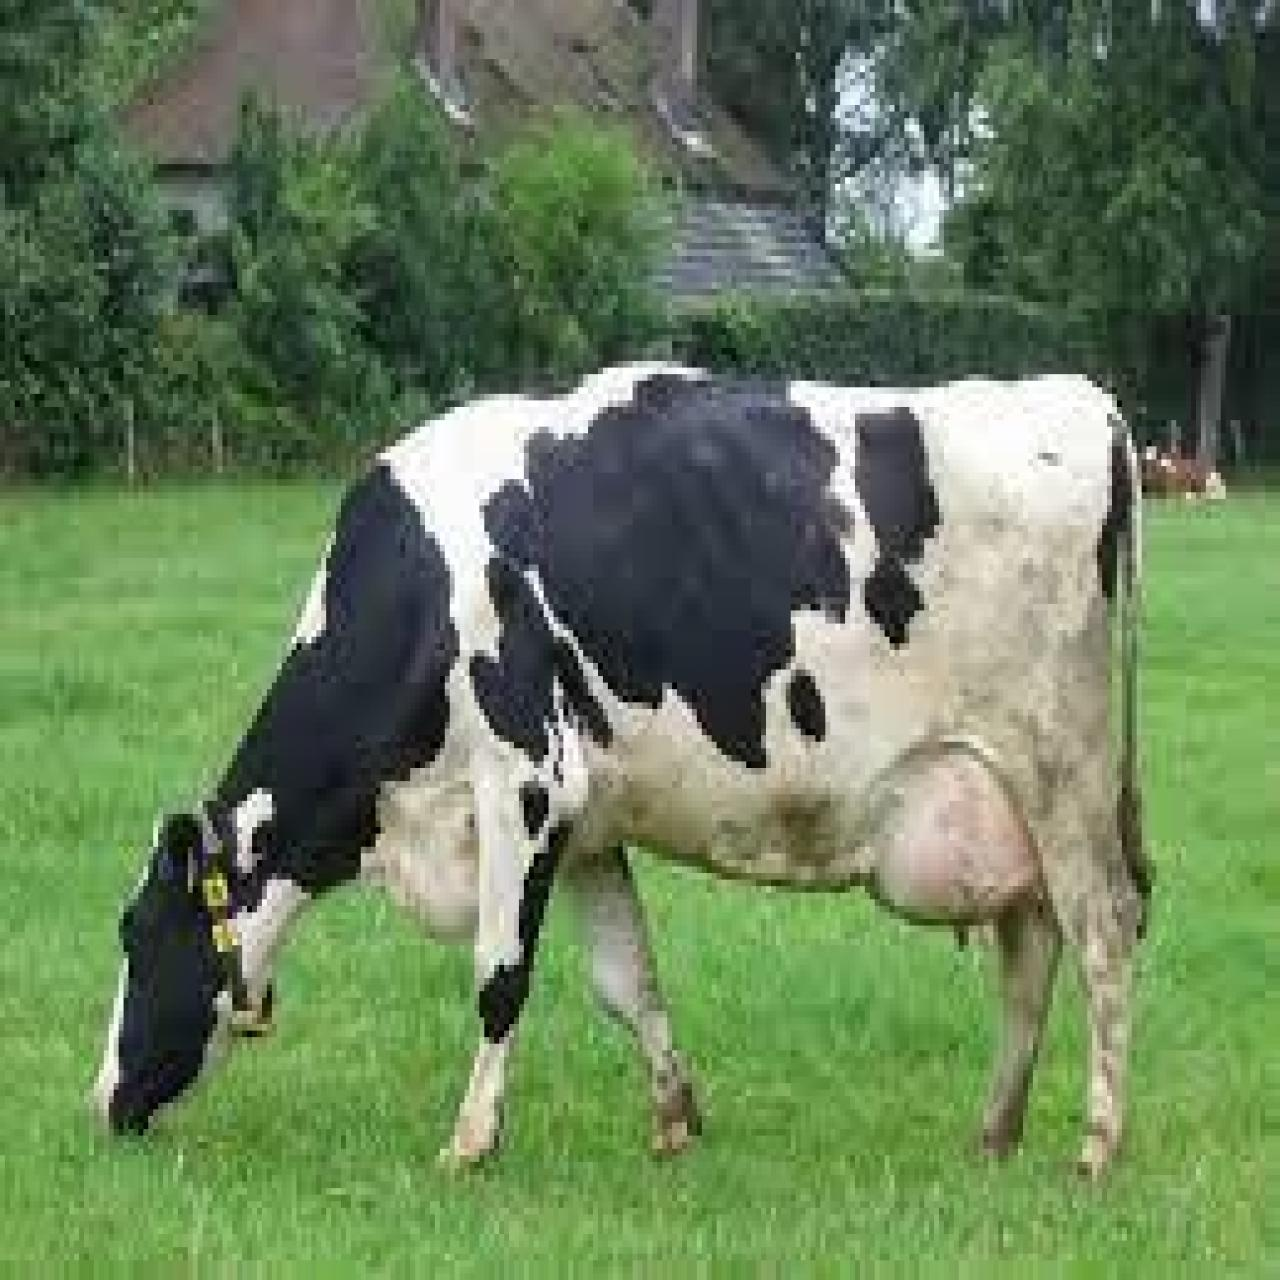cow: (83, 358, 1156, 1185)
